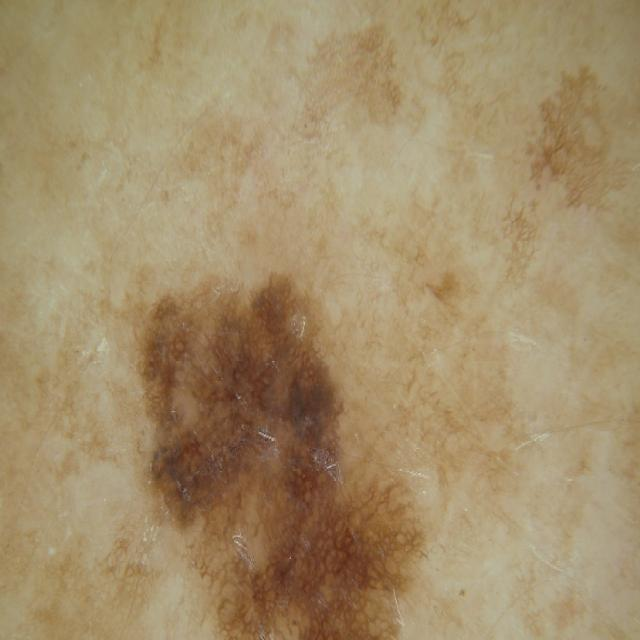Melanoma: (112, 245, 448, 640)
